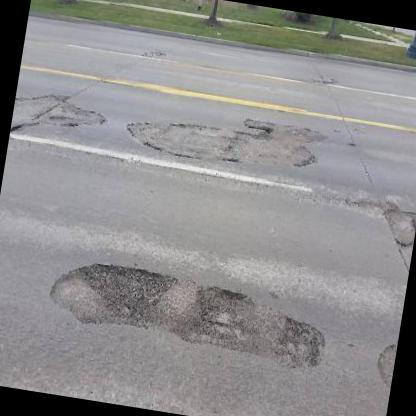pothole: (74, 258, 178, 324), (188, 278, 256, 346), (274, 311, 327, 369), (258, 122, 274, 138)
